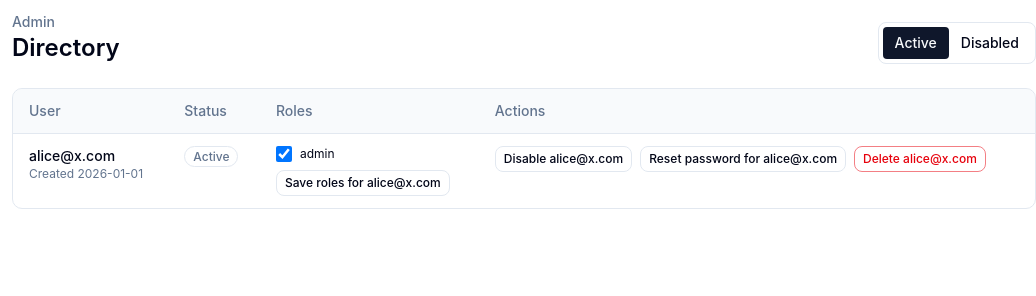
Test: DirectoryPage › shows friendly copy when deleting the last active admin
This screenshot has width=1036, height=296.
Click the button "Delete alice@x.com" at (920, 159), box x1=854 y1=146 x2=986 y2=172
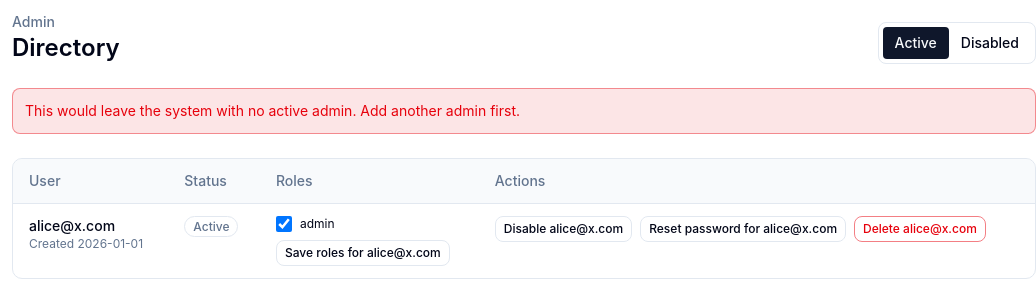
Result: the text "no active admin" is shown at x1=25 y1=102 x2=520 y2=119
